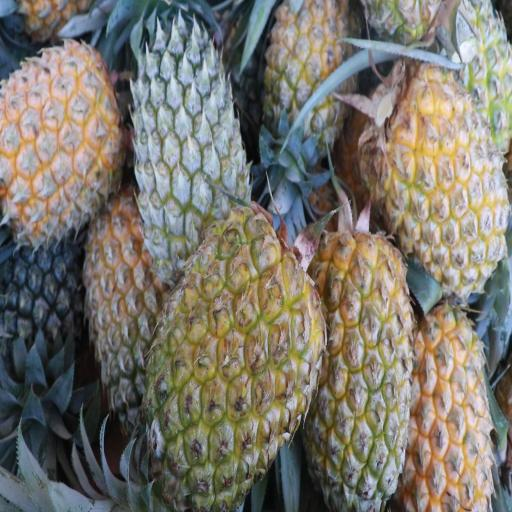------------------------------: (82, 199, 170, 412), (263, 0, 353, 138)
Pineapple - v8 v1: (154, 214, 318, 508), (303, 216, 412, 498), (376, 68, 507, 271), (0, 49, 121, 238), (411, 294, 494, 510)
